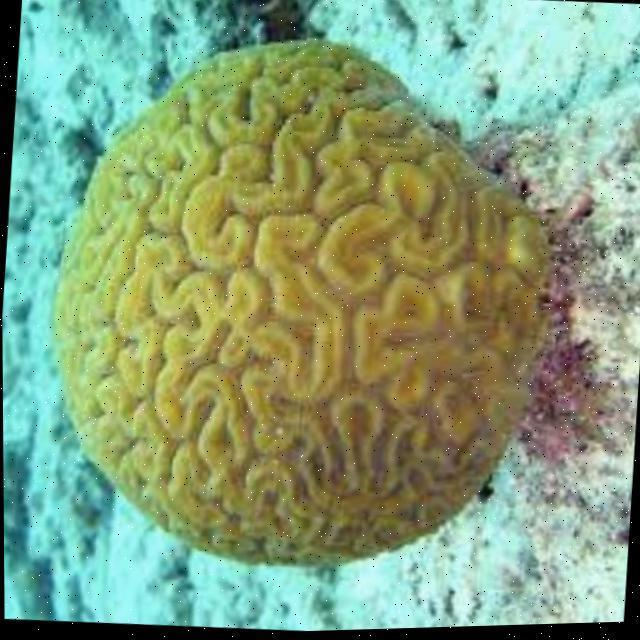Healthy Coral: (22, 7, 588, 594)
